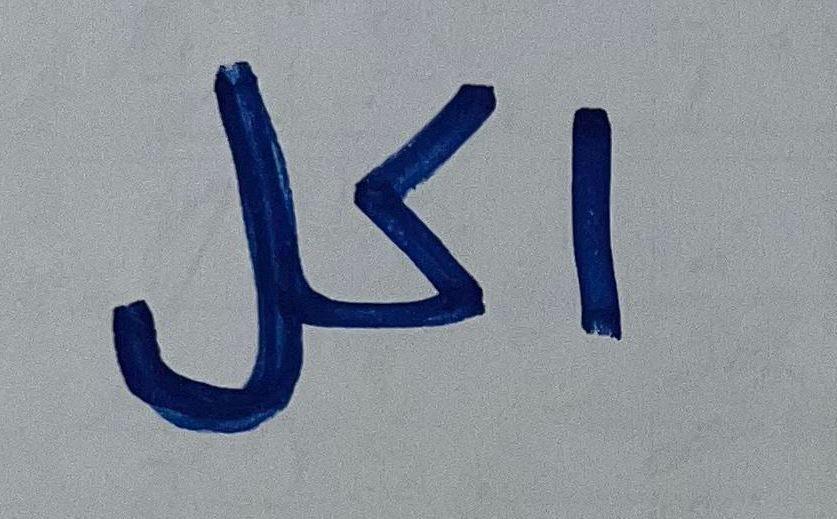alef: (544, 80, 662, 380)
kaf: (322, 69, 533, 363)
lam: (88, 41, 320, 448)
